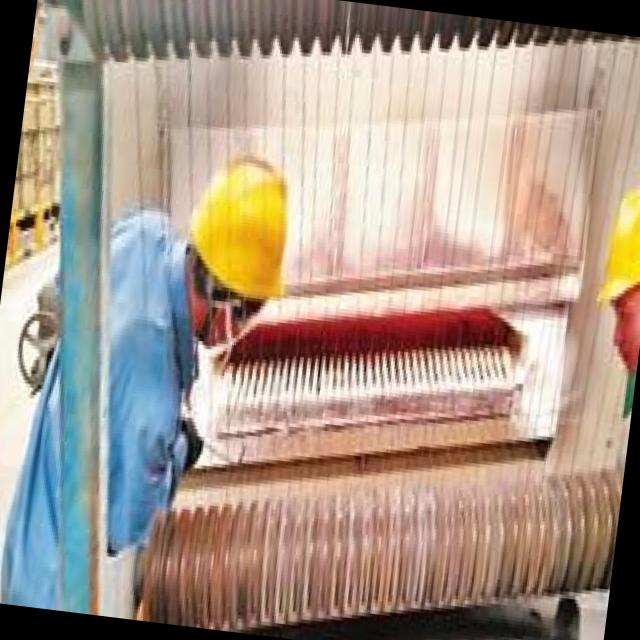helmet: (176, 128, 320, 356), (578, 159, 640, 382)
